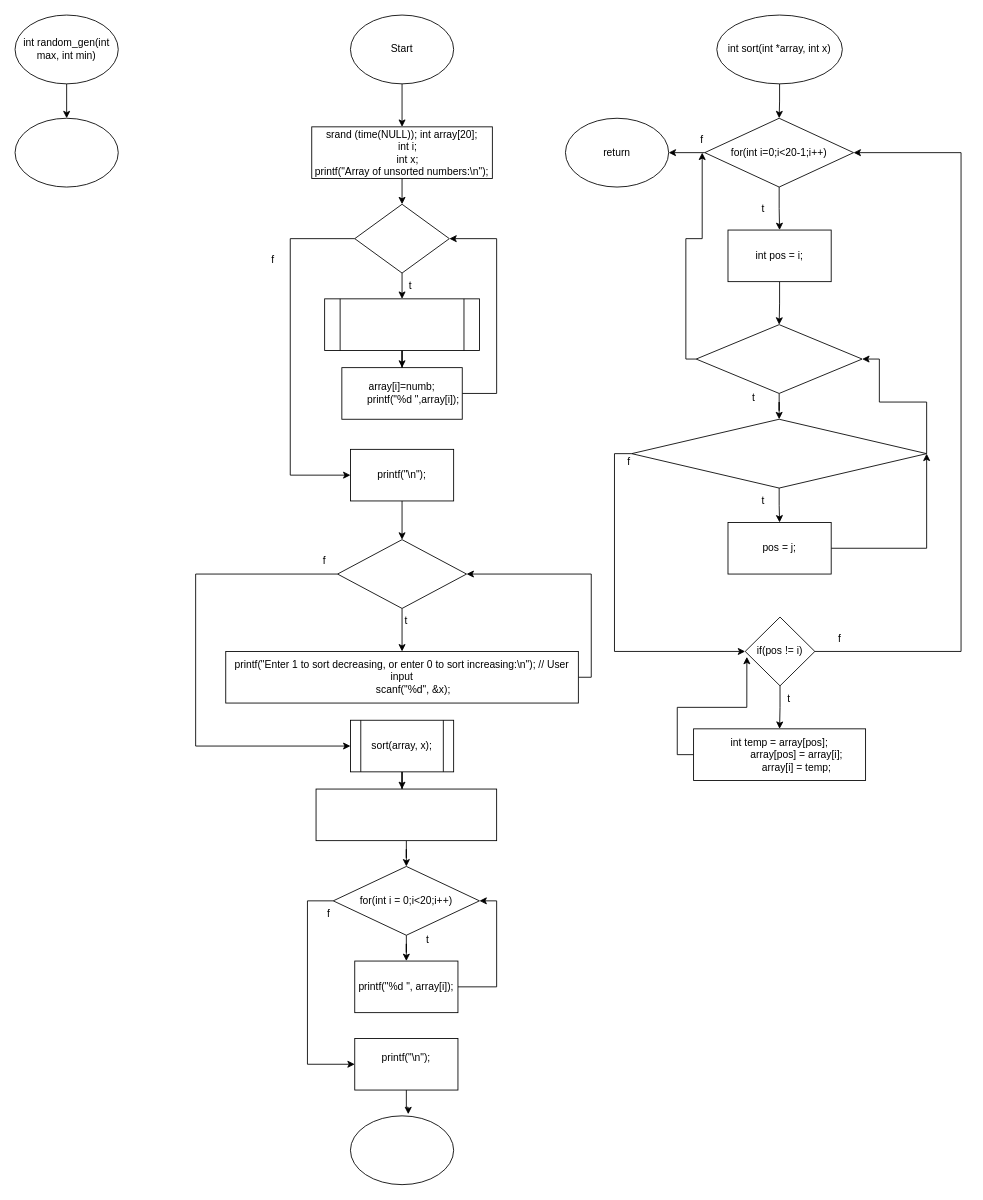
The diagram is 983 pixels wide and 1200 high, and some of its shapes have lost their labels. Each missing label, with the centre of its shape:
do while(x!=0 && x!=1): pixel 402 573
End: pixel 402 1150
for(i=0;i<20;i++): pixel 401 238
for(int j = i+1;j<20;j++): pixel 778 358
if ((x == 0 && array[j] < array[pos]) || (x == 1 && array[j] > array[pos])): pixel 779 453
int numb = random_gen(100,1);: pixel 401 324
printf("\nArray after sorting:\n");: pixel 406 814
return rand()%max + min;: pixel 66 152
